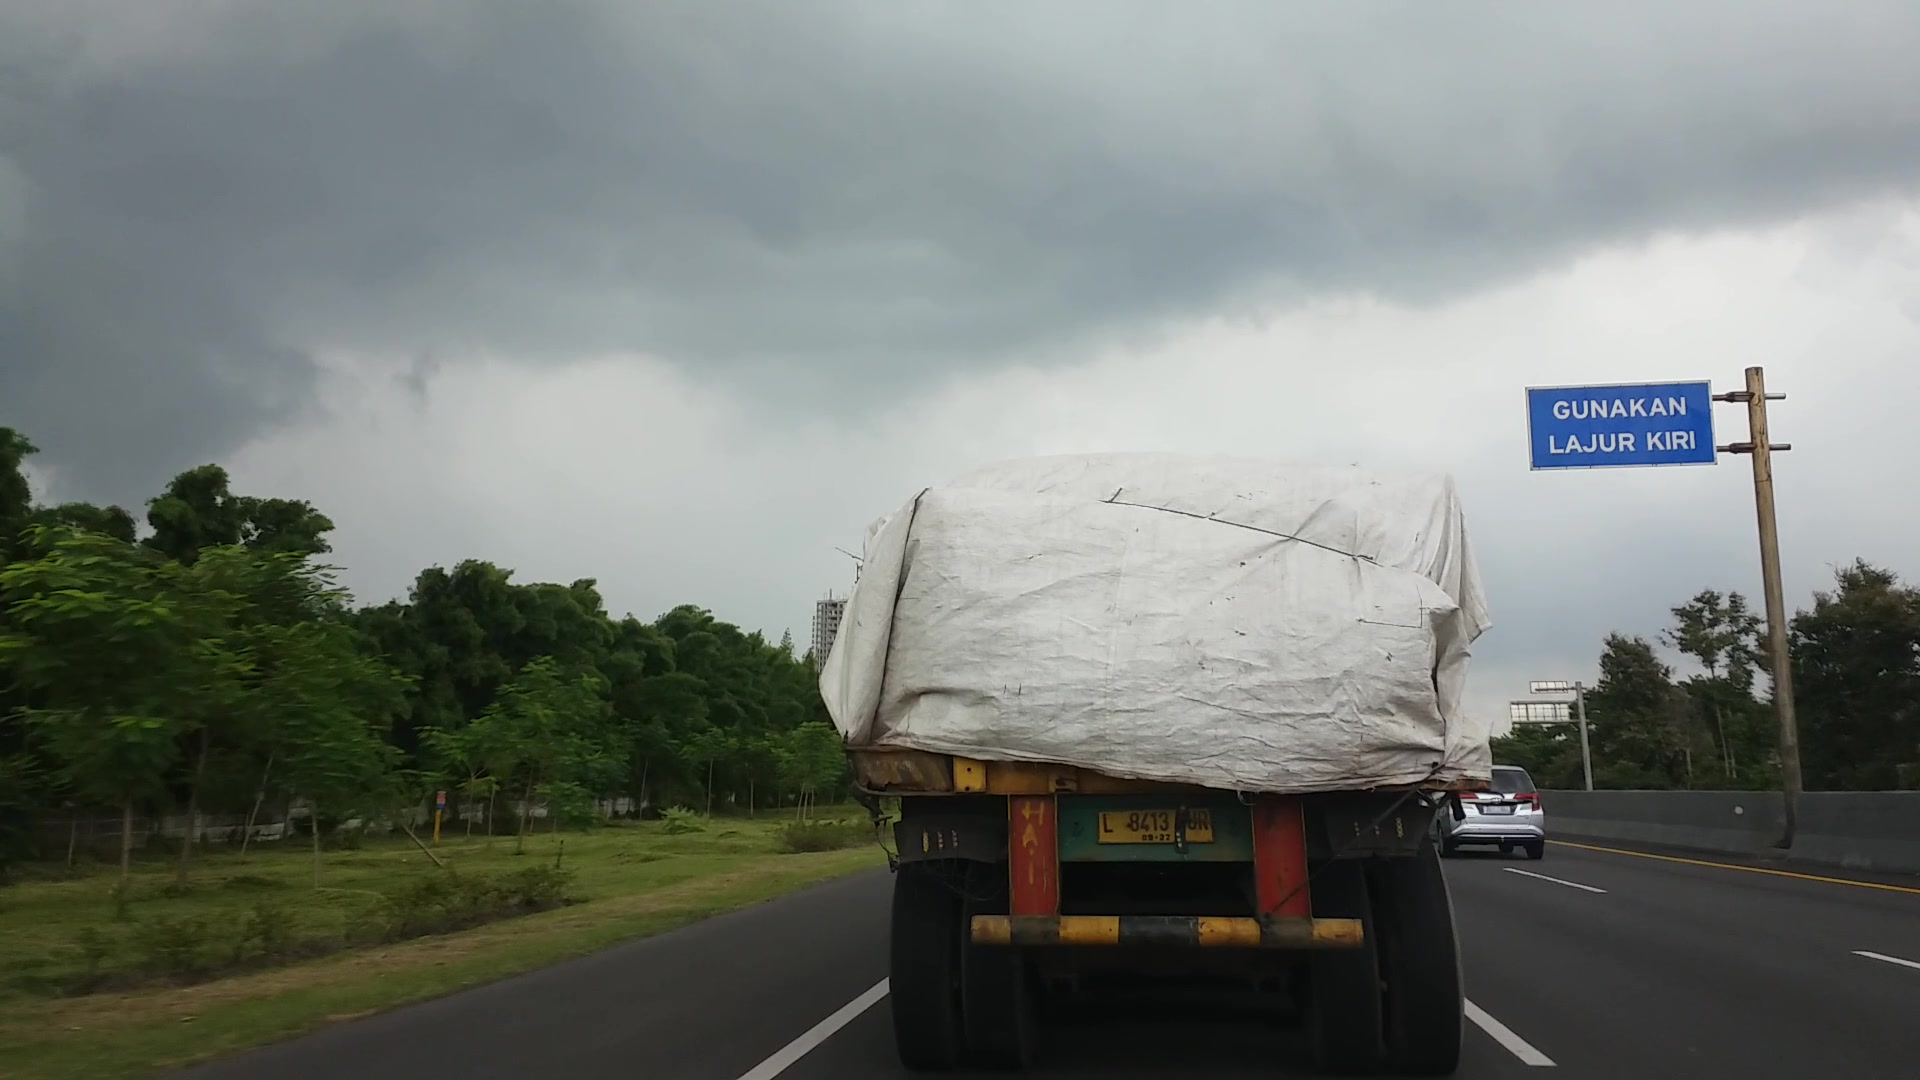plate_positive: (1097, 808, 1215, 844)
